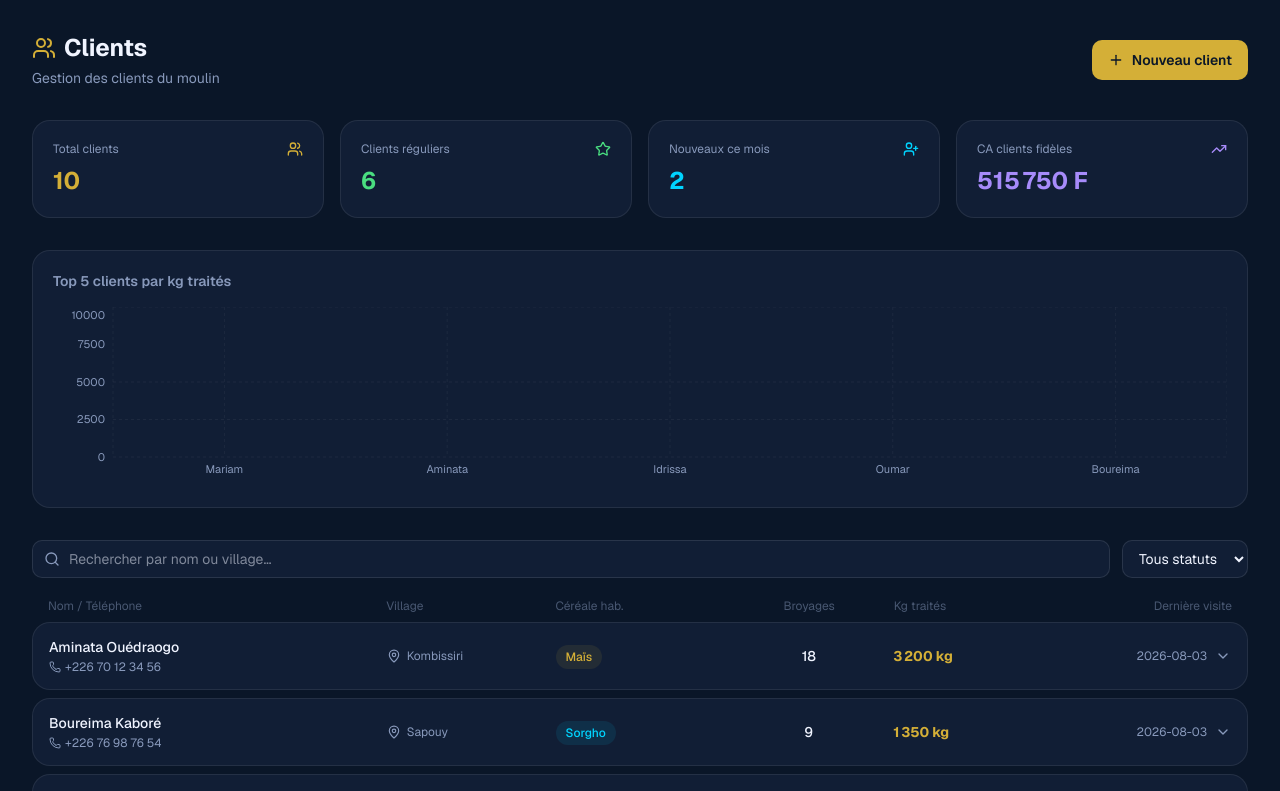
ClientsPage — modal nouveau client › 32. le modal s'ouvre au clic sur "Nouveau client"
What coordinates should you click on to do the following:
click the button "Nouveau client"
I would click on:
 (1170, 60)
Its box is [1092,40,1248,80].
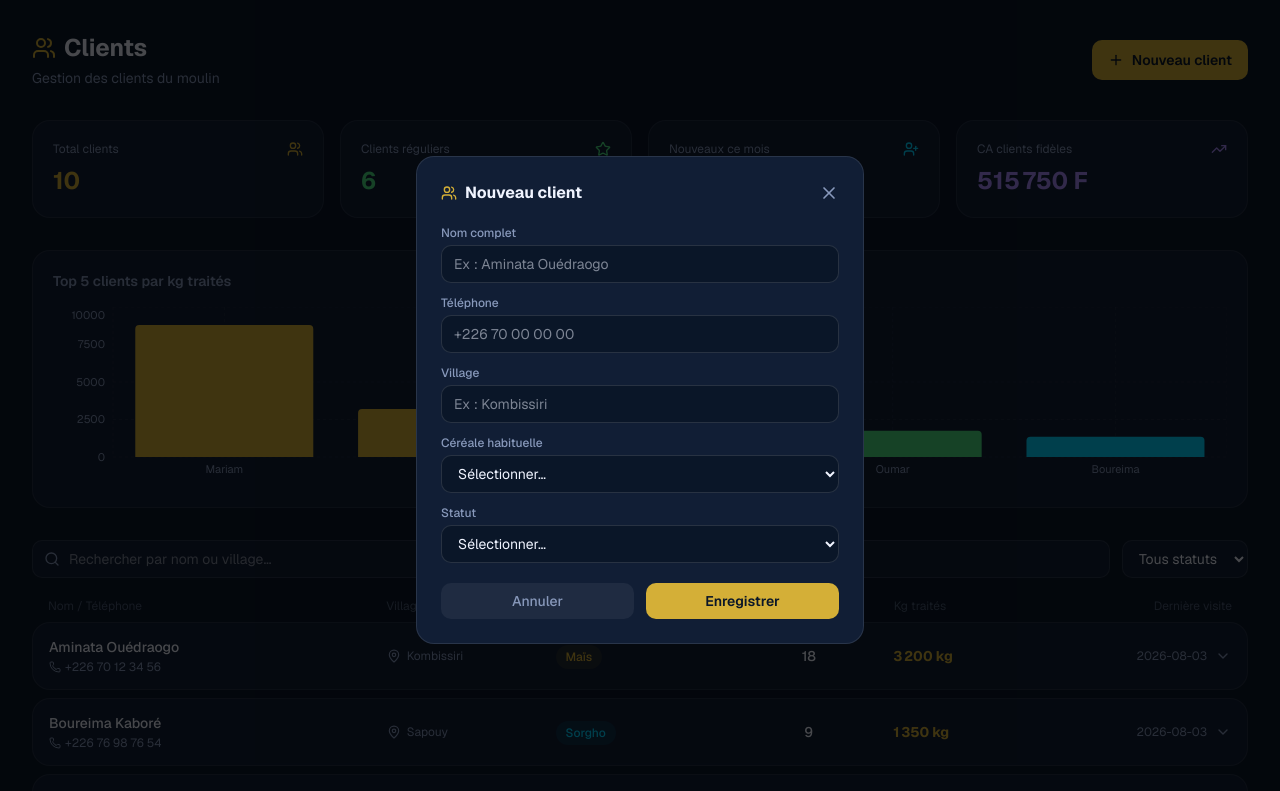
Expected: the text "Nom complet" is shown, [441,225,516,241]
